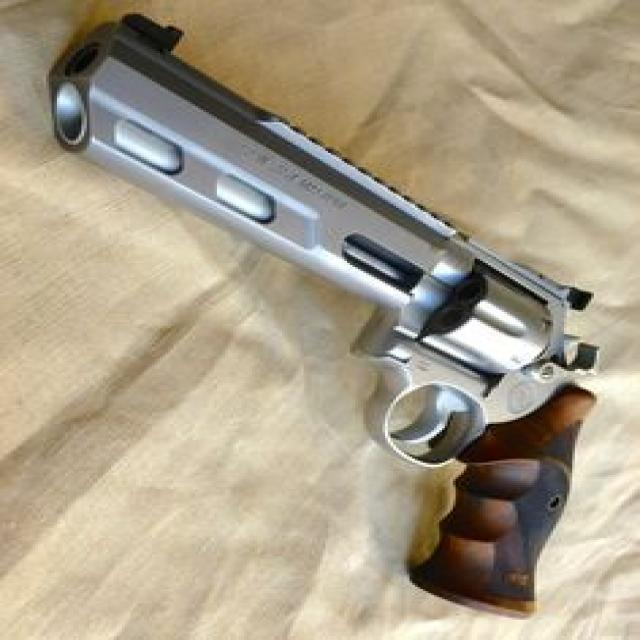revolver: (25, 6, 628, 619)
